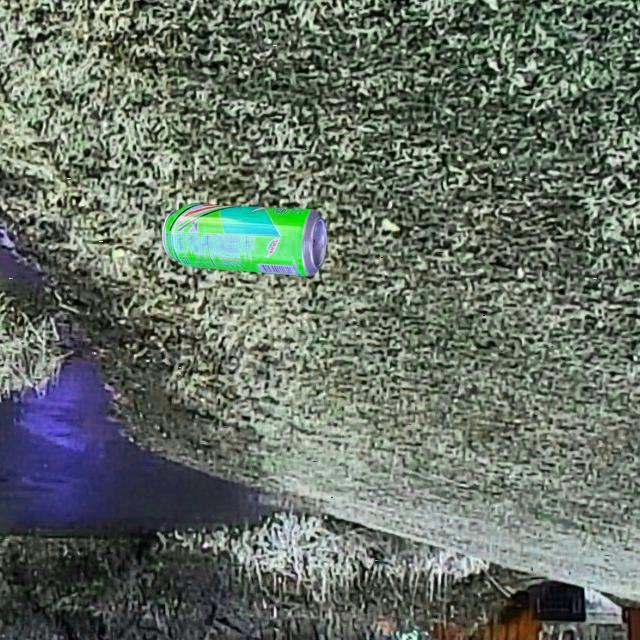Metal: (157, 198, 333, 279)
